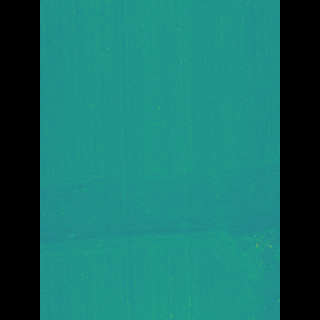Loch: (68, 153, 250, 264)
